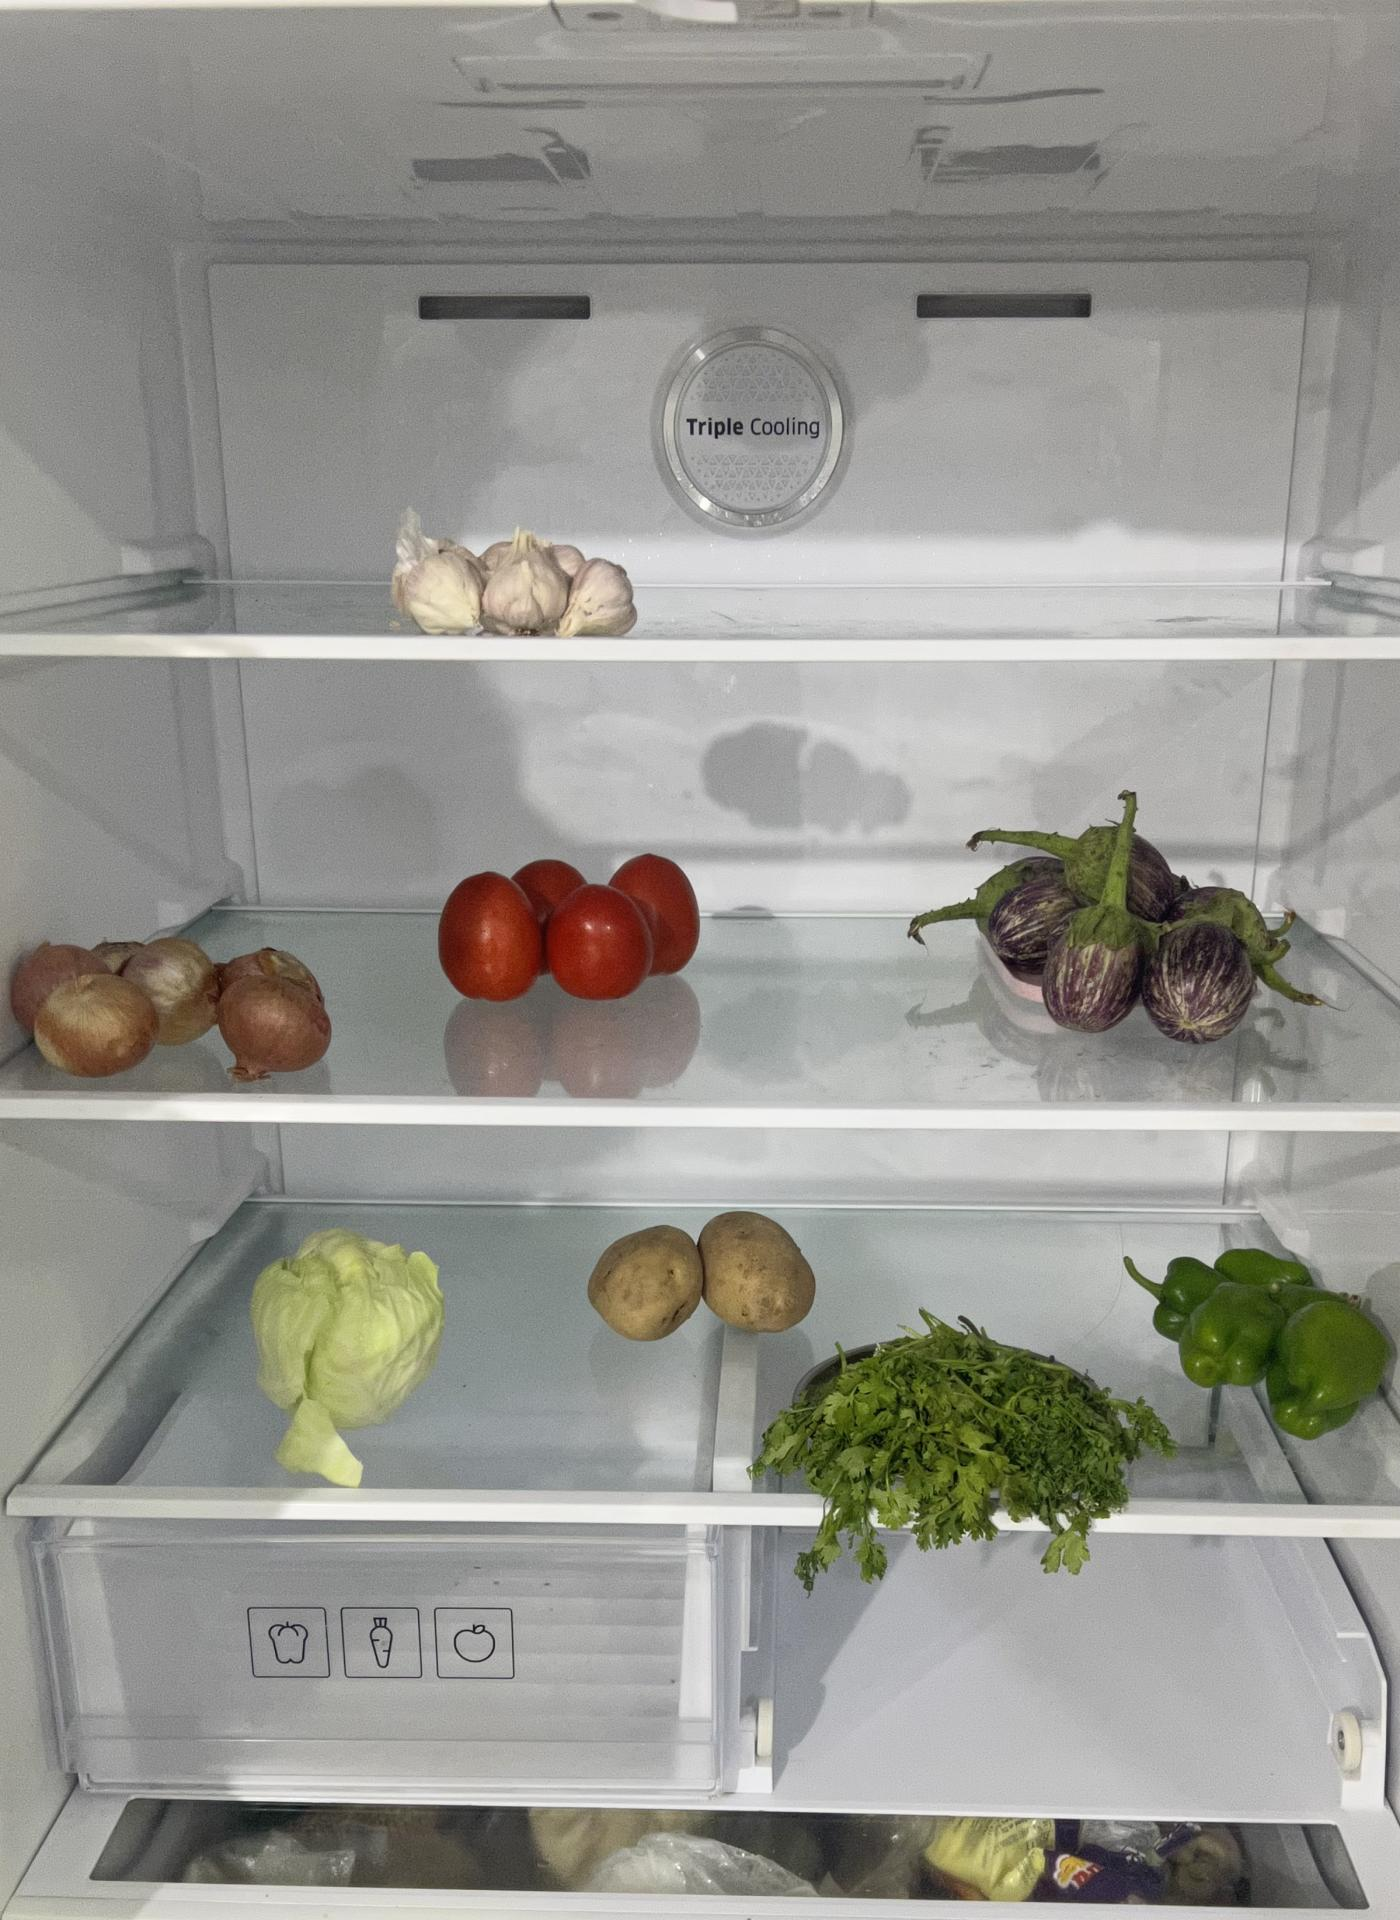brinjal: (948, 800, 1285, 1038)
cabbage: (252, 1230, 446, 1430)
capsicum: (1139, 1215, 1391, 1431)
coriander: (754, 1328, 1164, 1541)
garlic: (389, 523, 637, 640)
onion: (15, 941, 337, 1084)
potato: (592, 1207, 822, 1342)
tomato: (434, 848, 698, 1003)
